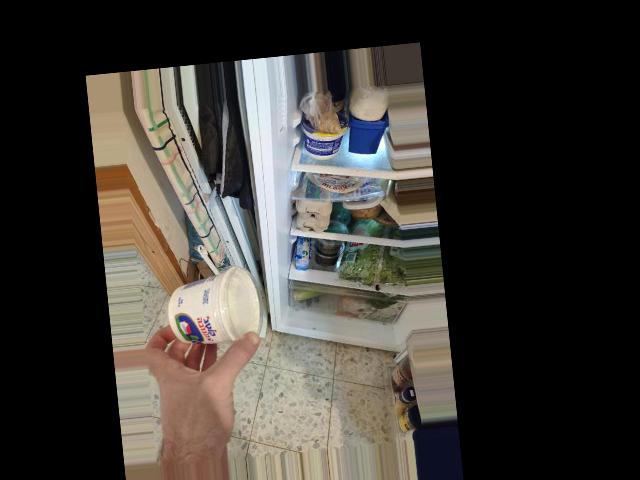cotage: (165, 268, 266, 348)
